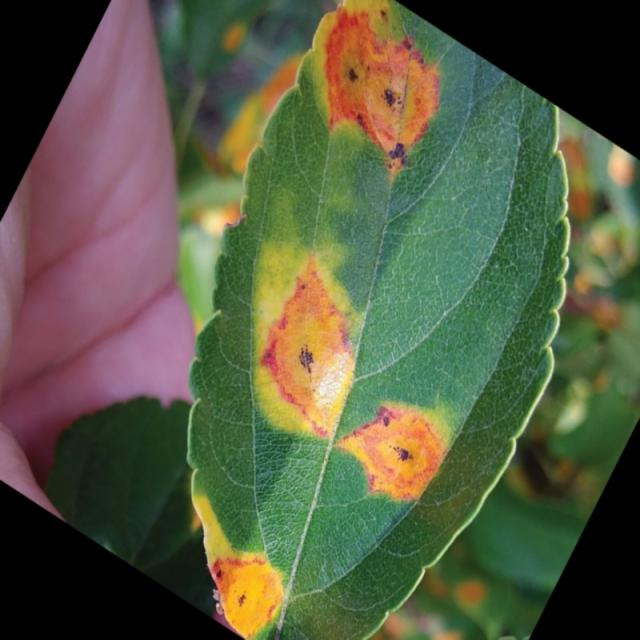Gymnosporangium_Rusts: (183, 0, 572, 639)
